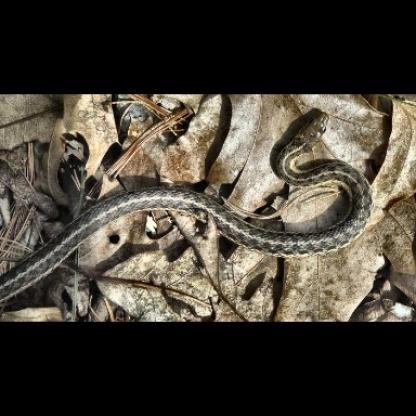Snake: (8, 109, 374, 296)
